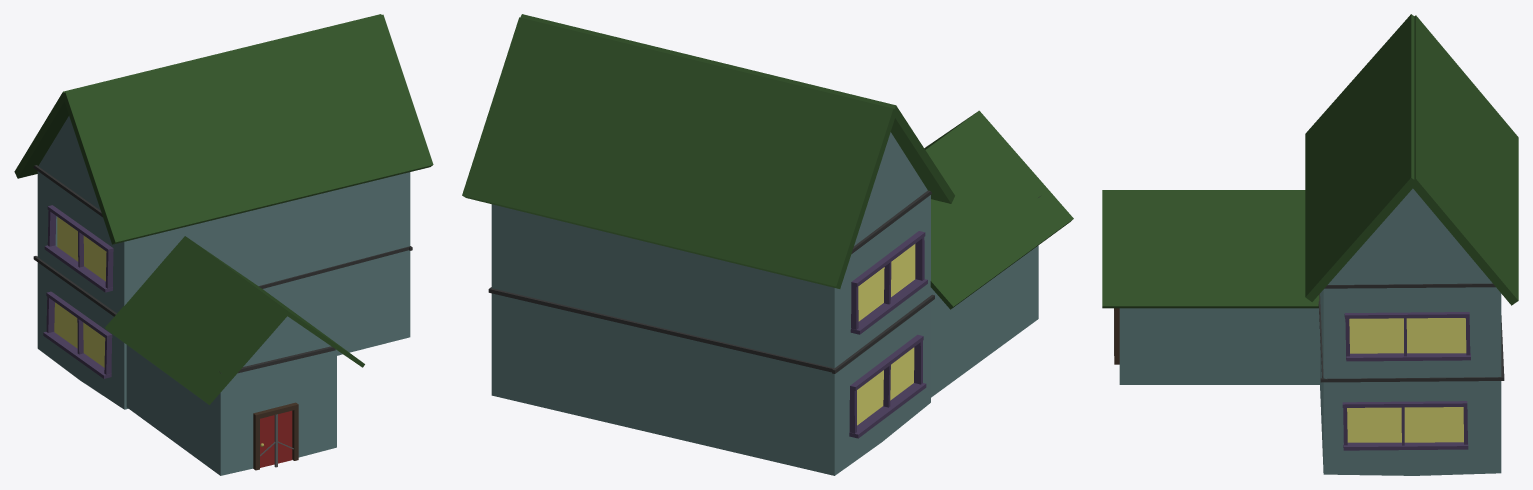
Rendered from House3.fbx.
3 renders of one model, left to right at view 1: azimuth 30°, elevation 25°; view 2: azimuth 150°, elevation 25°; view 3: azimuth 270°, elevation 25°, orthographic. The views are drawn at different scales.
Parts seen in each view (by area): view 1: Cube.005, Cube.001, Cube, Cube.002, Cube.004, Cube.009, Cube.043, Cube.042, Cube.003, Cube.032, Cube.020, Cube.012 (+4 smaller); view 2: Cube.001, Cube.004, Cube.002, Cube, Cube.005, Cube.015, Cube.043, Cube.042, Cube.020, Cube.032, Cube.031, Cube.019 (+1 smaller); view 3: Cube.001, Cube.003, Cube.005, Cube.004, Cube, Cube.040, Cube.041, Cube.024, Cube.028, Cube.014, Cube.023, Cube.027 (+1 smaller).
Part boxes in pixels (x1,y1,x2,y2): Cube.005: [62, 14, 433, 244]; Cube.001: [37, 116, 410, 409]; Cube: [126, 316, 336, 475]; Cube.002: [105, 236, 289, 404]; Cube.004: [14, 14, 381, 178]; Cube.009: [260, 410, 292, 467]; Cube.043: [54, 302, 105, 367]; Cube.042: [57, 217, 106, 281]; Cube.003: [185, 236, 364, 367]; Cube.032: [44, 245, 112, 292]; Cube.020: [43, 331, 111, 378]; Cube.012: [259, 246, 410, 288]; Cube.001: [491, 132, 930, 475]; Cube.004: [462, 17, 896, 288]; Cube.002: [925, 111, 1073, 309]; Cube: [931, 245, 1038, 397]; Cube.005: [520, 14, 954, 203]; Cube.015: [489, 288, 833, 372]; Cube.043: [857, 347, 914, 425]; Cube.042: [858, 244, 915, 321]; Cube.020: [849, 383, 926, 438]; Cube.032: [850, 279, 927, 334]; Cube.031: [851, 231, 925, 286]; Cube.019: [850, 334, 923, 390]; Cube.001: [1320, 188, 1501, 475]; Cube.003: [1102, 190, 1319, 308]; Cube.005: [1305, 14, 1415, 301]; Cube.004: [1409, 15, 1518, 305]; Cube: [1119, 308, 1319, 384]; Cube.040: [1347, 407, 1463, 442]; Cube.041: [1349, 318, 1466, 353]; Cube.024: [1343, 442, 1468, 450]; Cube.028: [1346, 353, 1470, 361]; Cube.014: [1320, 376, 1504, 382]; Cube.023: [1342, 401, 1467, 407]; Cube.027: [1344, 312, 1469, 318].
Size of the model in its own units: 1422 by 1224 by 1506.
